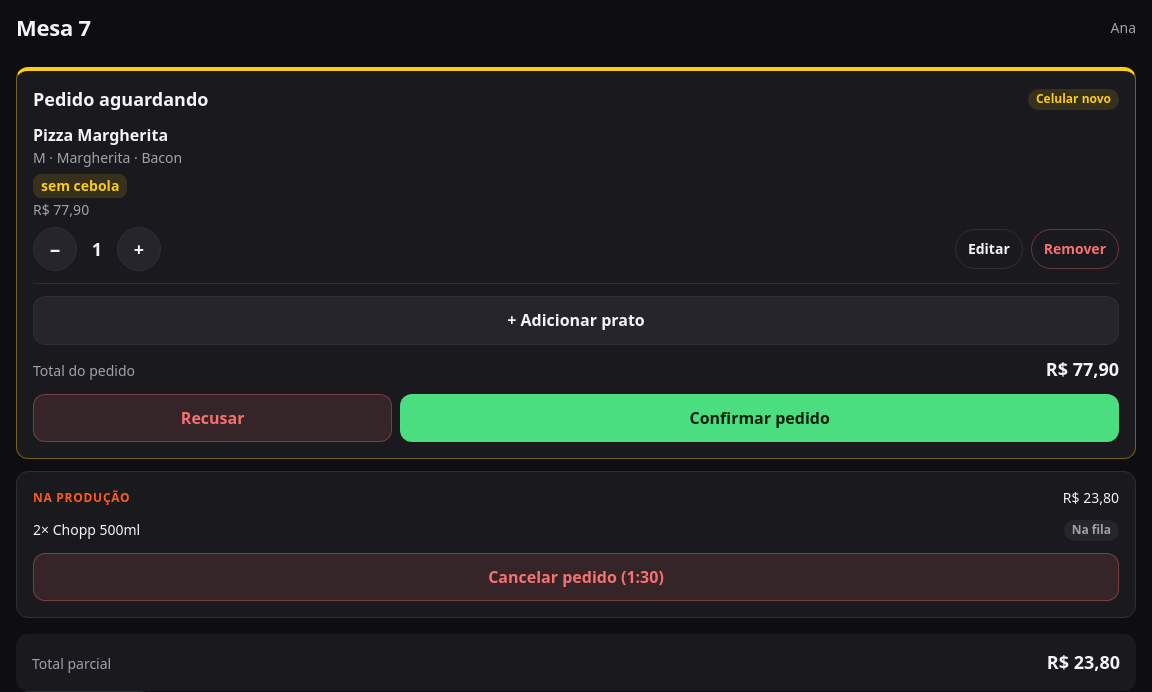
Tela da mesa › andamento da produção › prazo acabou no servidor (409) avisa e recarrega
Click the button "Cancelar pedido (1:30)" at (576, 577), box [33,552,1119,601]
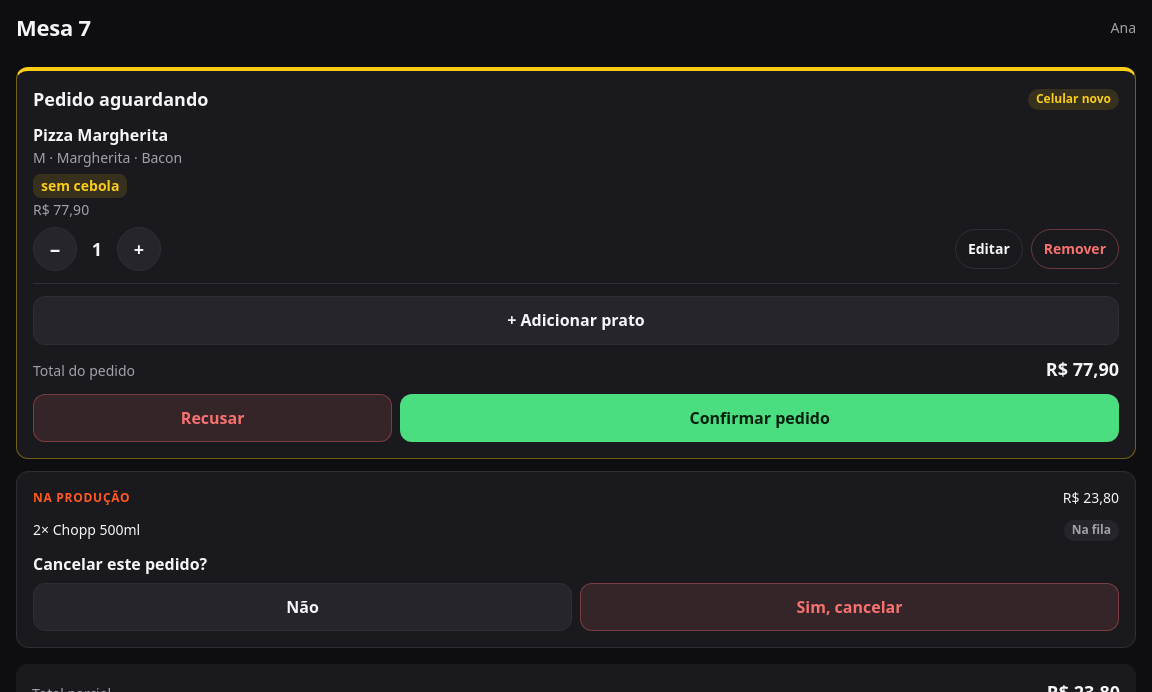
Click the button "Sim, cancelar" at (850, 607), box [580,583,1119,631]
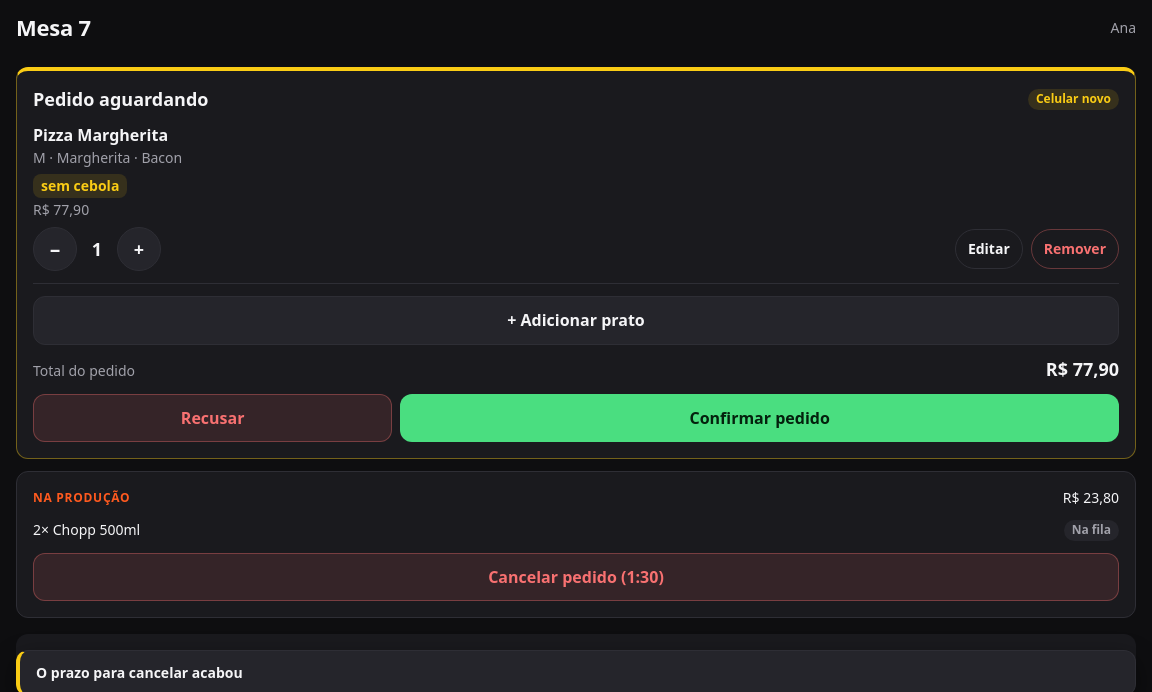
Now the message reads "O prazo para cancelar acabou", box [36,663,243,682]
